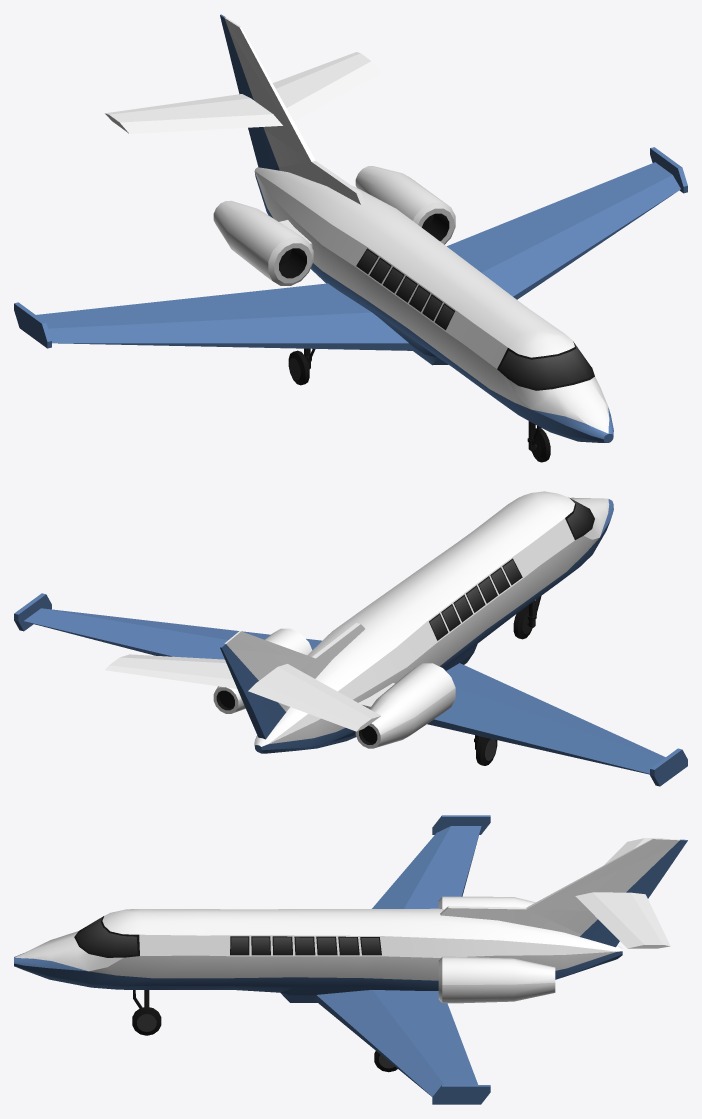
Rendered from Aeroplane.fbx.
3 renders of one model, top to bottom at view 1: azimuth 30°, elevation 25°; view 2: azimuth 150°, elevation 25°; view 3: azimuth 270°, elevation 25°, orthographic. The views are drawn at different scales.
Parts seen in each view (by area): view 1: Aeroplane_Body; view 2: Aeroplane_Body, B_R; view 3: Aeroplane_Body, F.
Part boxes in pixels (left/top/right/bottom): Aeroplane_Body: left=14, top=14, right=687, bottom=442; Aeroplane_Body: left=14, top=491, right=687, bottom=786; B_R: left=476, top=736, right=497, bottom=765; Aeroplane_Body: left=14, top=815, right=687, bottom=1104; F: left=132, top=1006, right=161, bottom=1035.
Size of the model in its own units: 1449 by 480 by 1520.
